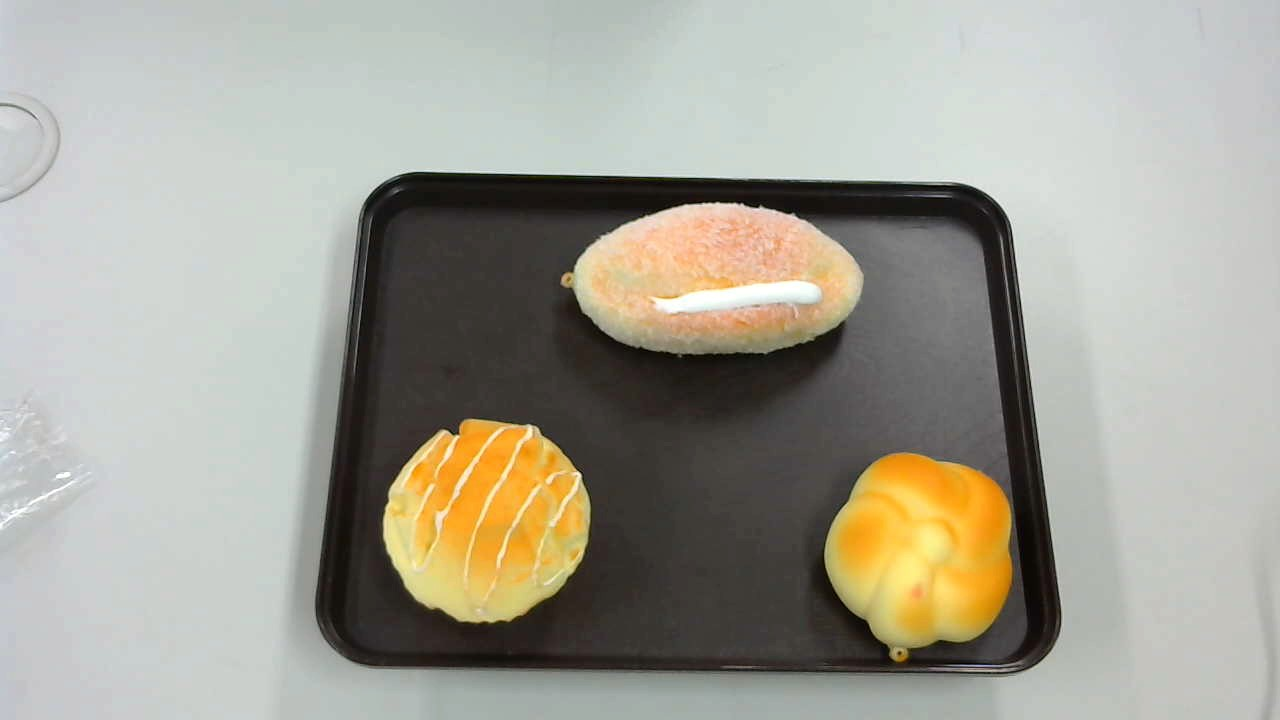coconut: (560, 199, 867, 355)
croissant: (824, 452, 1015, 661)
cupcake: (381, 419, 591, 625)
